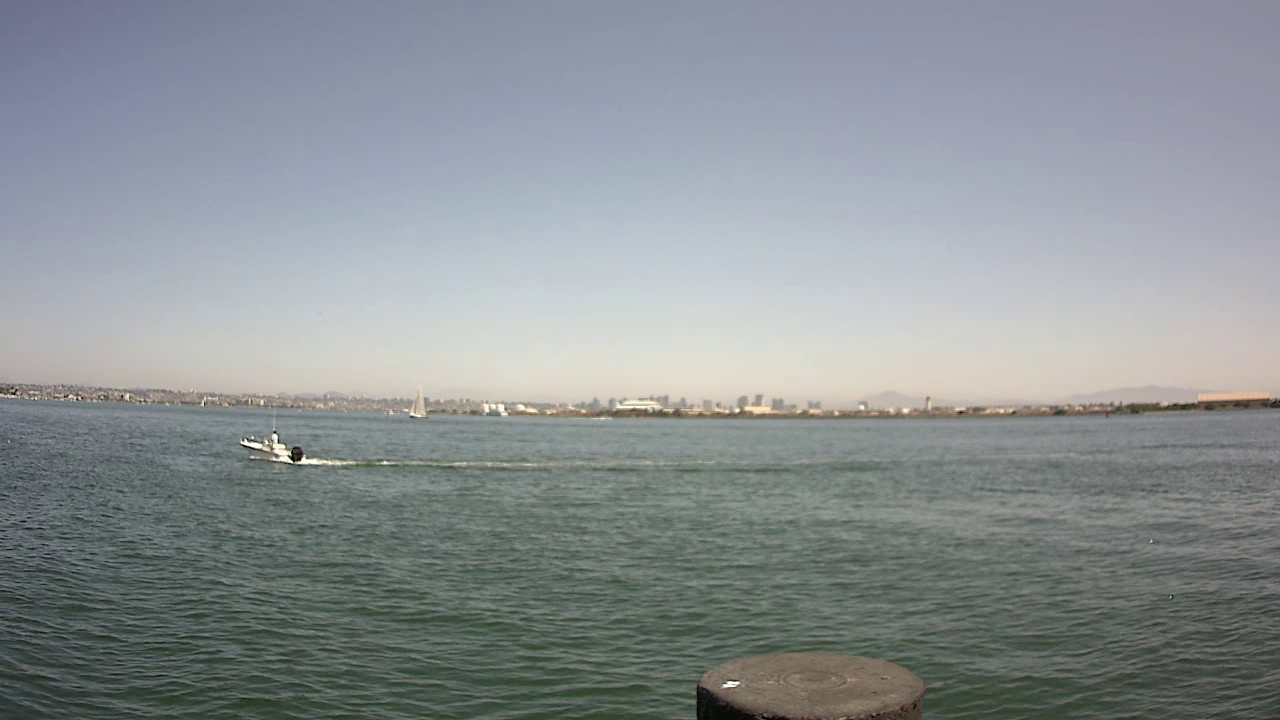target: (233, 418, 318, 472)
